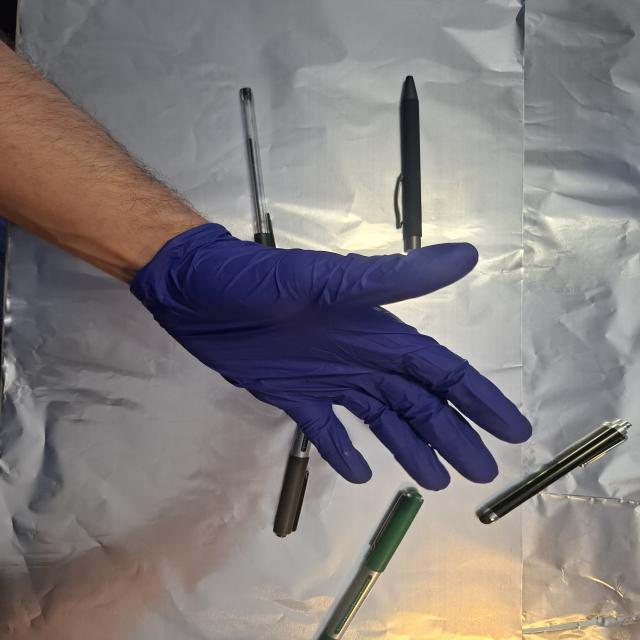glove_on: (130, 220, 539, 493)
